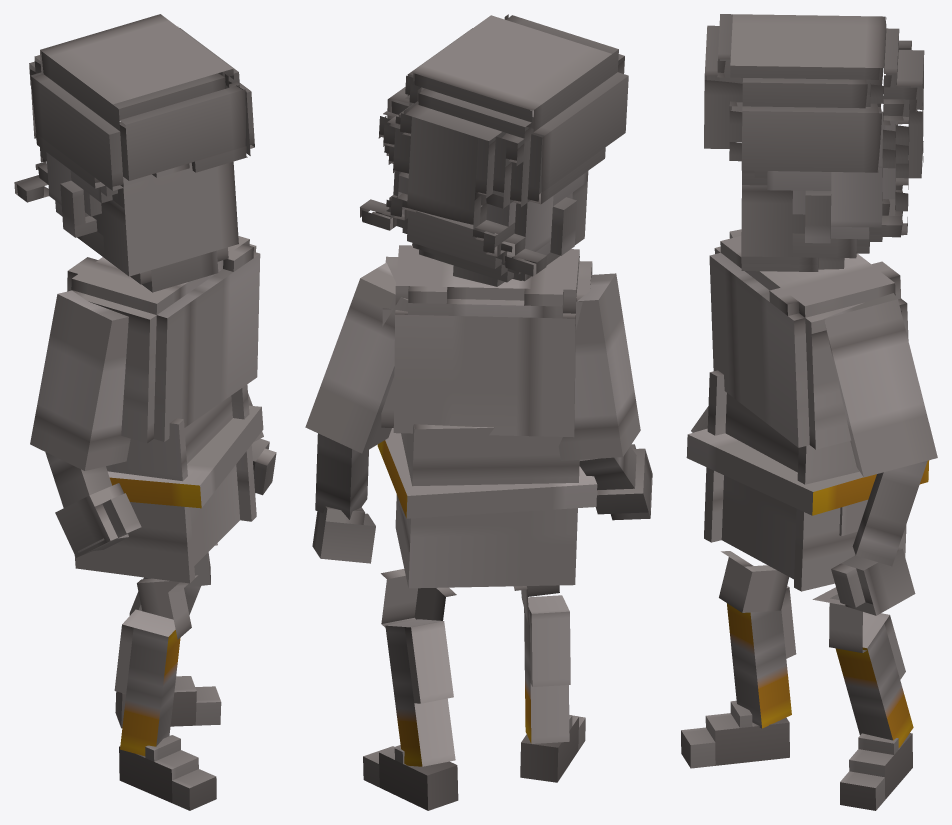
Rendered from ManWin.obj.
3 views of the same model, side by side, from view 1: azimuth 30°, elevation 25°; view 2: azimuth 150°, elevation 25°; view 3: azimuth 270°, elevation 25° (orthographic). The views are drawn at different scales.
Visible parts, largest first — view 1: Model; view 2: Model; view 3: Model.
Part boxes in pixels (x1,y1,x2,y2): Model: [14, 14, 276, 810]; Model: [305, 14, 652, 810]; Model: [681, 14, 937, 810].
Bounding box in the file's own units: 24.67 × 62.19 × 20.07.
